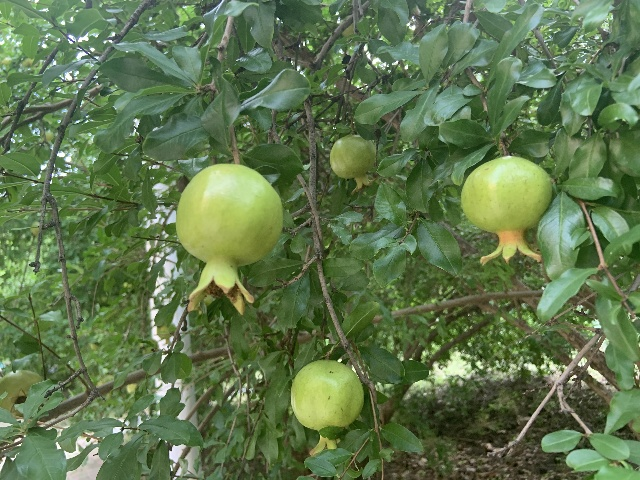mid-growth: (175, 162, 283, 314), (461, 154, 553, 266), (290, 358, 364, 456), (329, 133, 377, 194), (0, 370, 42, 421), (21, 58, 33, 67)
